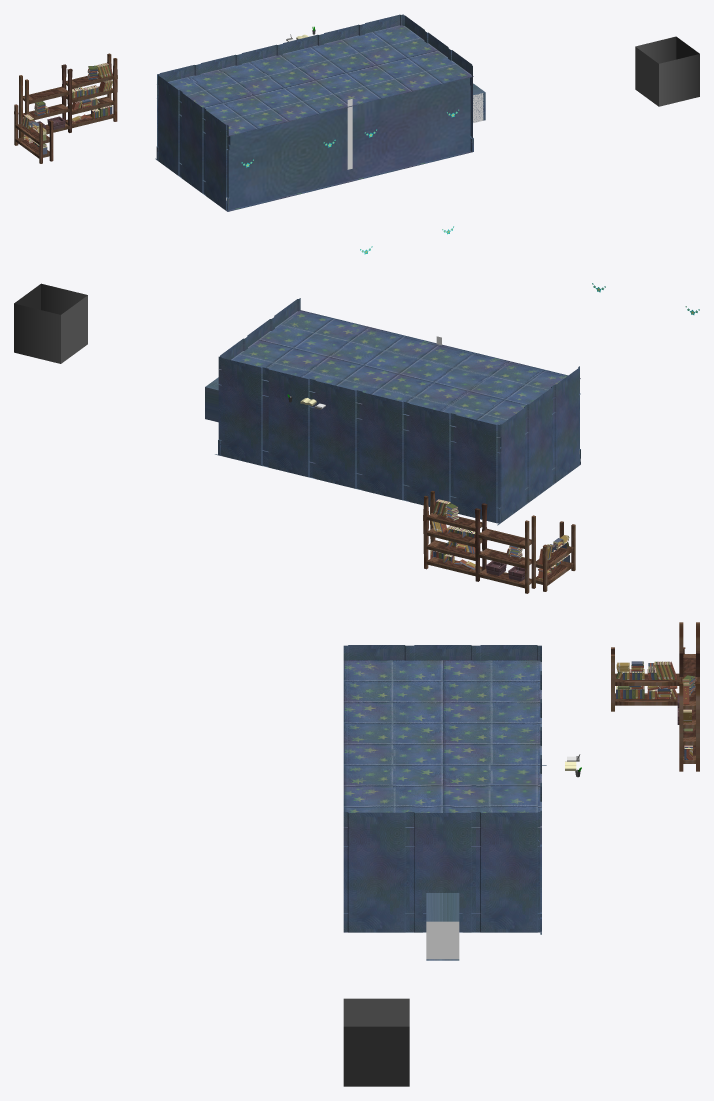
Rendered from las_13.dae.
3 views of the same model, one above another, from view 1: azimuth 30°, elevation 25°; view 2: azimuth 150°, elevation 25°; view 3: azimuth 270°, elevation 25° (orthographic). The views are drawn at different scales.
Visible parts, largest first — view 1: pCube4_q00011, pCube1_q00214, polySurface216_q00002, pCube1_q00009, pCube3_q00208, pCube3_q00207, pCube3_q00209, polySurface943_q00077, w_bero_1, polySurface943_q00078, pCube1_q00215, pCube3_q00038 (+9 smaller); view 2: pCube1_q00214, pCube1_q00009, pCube3_q00183, pCube3_q00182, pCube3_q00181, pCube3_q00186, pCube3_q00185, pCube3_q00184, polySurface216_q00002, pCube3_q00208, pCube3_q00207, pCube3_q00209 (+6 smaller); view 3: pCube1_q00214, pCube1_q00009, pCube3_q00037, pCube3_q00036, pCube3_q00038, polySurface216_q00002, w_bero_1, polySurface204_q00000, polySurface943_q00077, pCube3_q00208, pCube3_q00209, pCube3_q00207.
Part boxes in pixels (box(x1,y1,x2,y2)): pCube4_q00011: box(228, 78, 470, 209); pCube1_q00214: box(157, 25, 473, 136); polySurface216_q00002: box(635, 36, 699, 106); pCube1_q00009: box(178, 28, 440, 134); pCube3_q00208: box(179, 91, 204, 193); pCube3_q00207: box(155, 74, 181, 176); pCube3_q00209: box(202, 109, 228, 210); polySurface943_q00077: box(19, 53, 117, 138); w_bero_1: box(635, 47, 658, 106); polySurface943_q00078: box(14, 104, 53, 163); pCube1_q00215: box(180, 151, 471, 211); pCube3_q00038: box(425, 32, 485, 121); pCube1_q00214: box(218, 310, 580, 437); pCube1_q00009: box(234, 315, 566, 424); pCube3_q00183: box(355, 391, 406, 500); pCube3_q00182: box(215, 356, 265, 465); pCube3_q00181: box(309, 379, 359, 488); pCube3_q00186: box(262, 368, 312, 477); pCube3_q00185: box(453, 414, 500, 522); pCube3_q00184: box(403, 402, 453, 506); polySurface216_q00002: box(14, 283, 87, 363); pCube3_q00208: box(525, 386, 552, 504); pCube3_q00207: box(497, 406, 525, 525); pCube3_q00209: box(552, 366, 579, 485); pCube1_q00214: box(343, 660, 541, 827); pCube1_q00009: box(347, 661, 537, 812); pCube3_q00037: box(343, 812, 409, 932); pCube3_q00036: box(471, 812, 540, 932); pCube3_q00038: box(405, 812, 475, 960); polySurface216_q00002: box(343, 1026, 409, 1086); w_bero_1: box(343, 998, 409, 1026); polySurface204_q00000: box(426, 921, 459, 959); polySurface943_q00077: box(679, 622, 699, 771); pCube3_q00208: box(409, 645, 475, 660); pCube3_q00209: box(343, 645, 409, 660); pCube3_q00207: box(476, 645, 546, 765).
Bounding box in the file's own units: 137 × 20 × 104.
